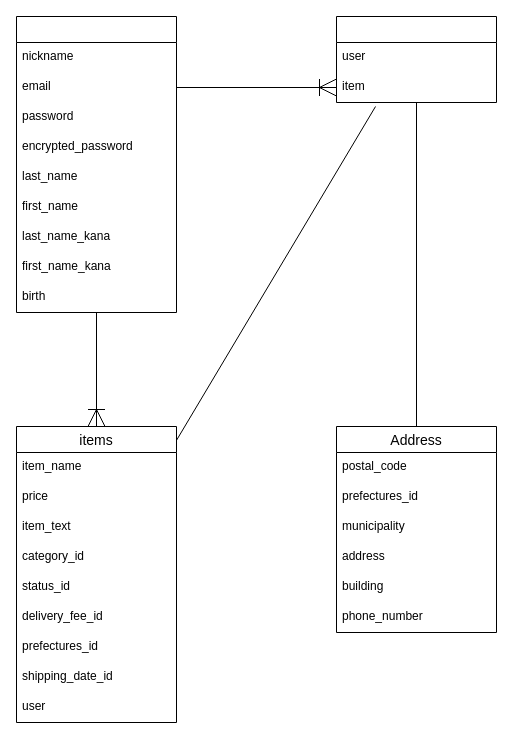
Image size: 513x739. Some labels were removed from this diagram. The box of each missing label's shape, as (x1, y1, x2, y2) in pixels:
Orders: (336, 16, 496, 102)
Users: (16, 16, 176, 312)
